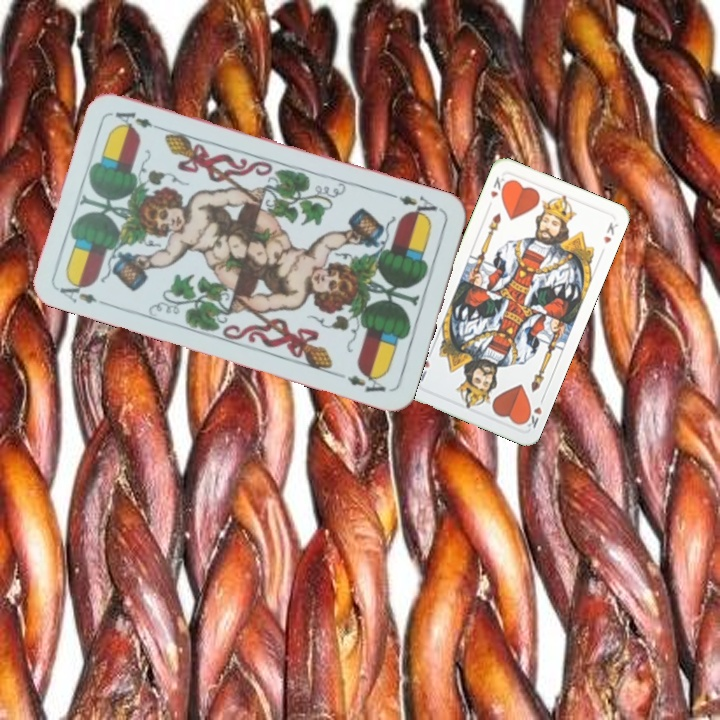EA: (55, 275, 112, 309), (388, 189, 446, 222)
HK: (519, 392, 547, 431), (486, 172, 510, 201)
